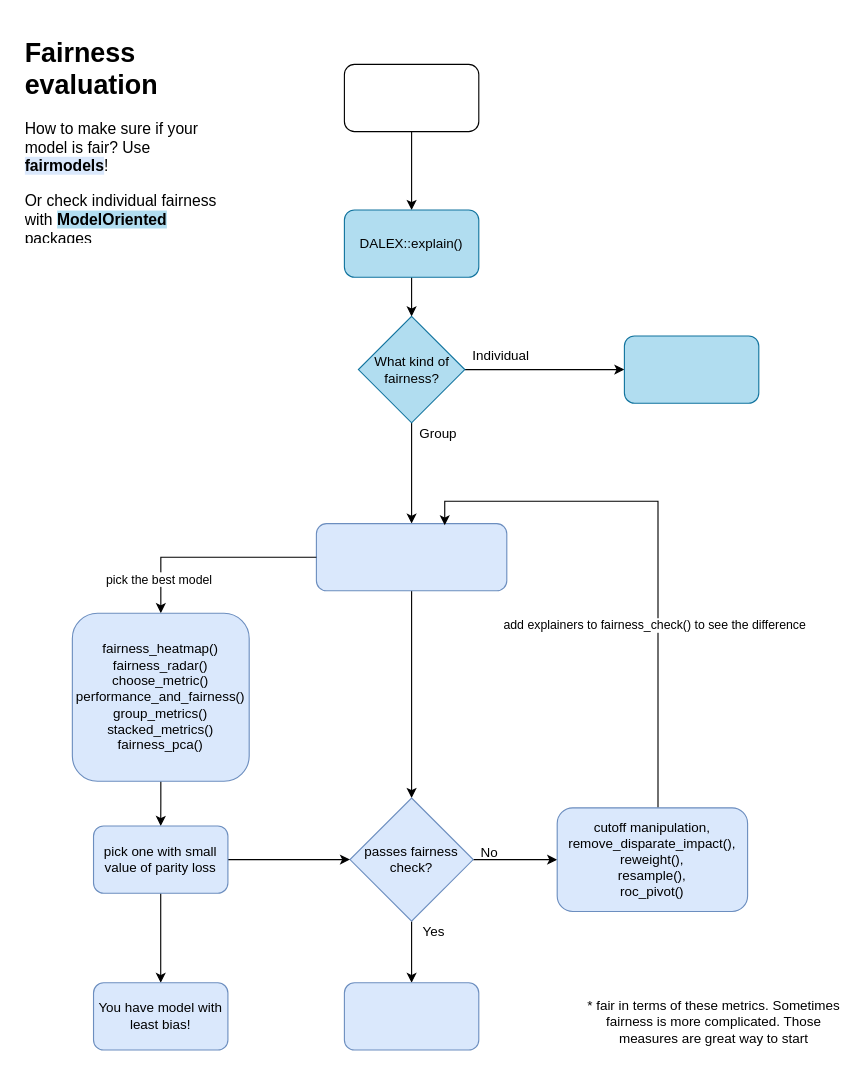
Image size: 867x1070. Some labels were removed from this diagram. Each missing label, with the centre of its shape:
"fairness_check()" goes at [411,556].
"Model" goes at [411,97].
"other packages (ingredients, vivo, ...)" goes at [691,369].
"Your model is fair*!" goes at [411,1016].
